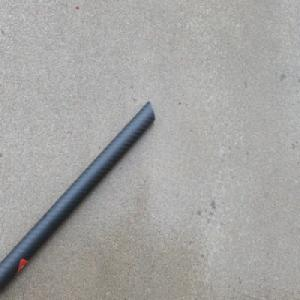LuggagePart: (0, 99, 156, 294)
